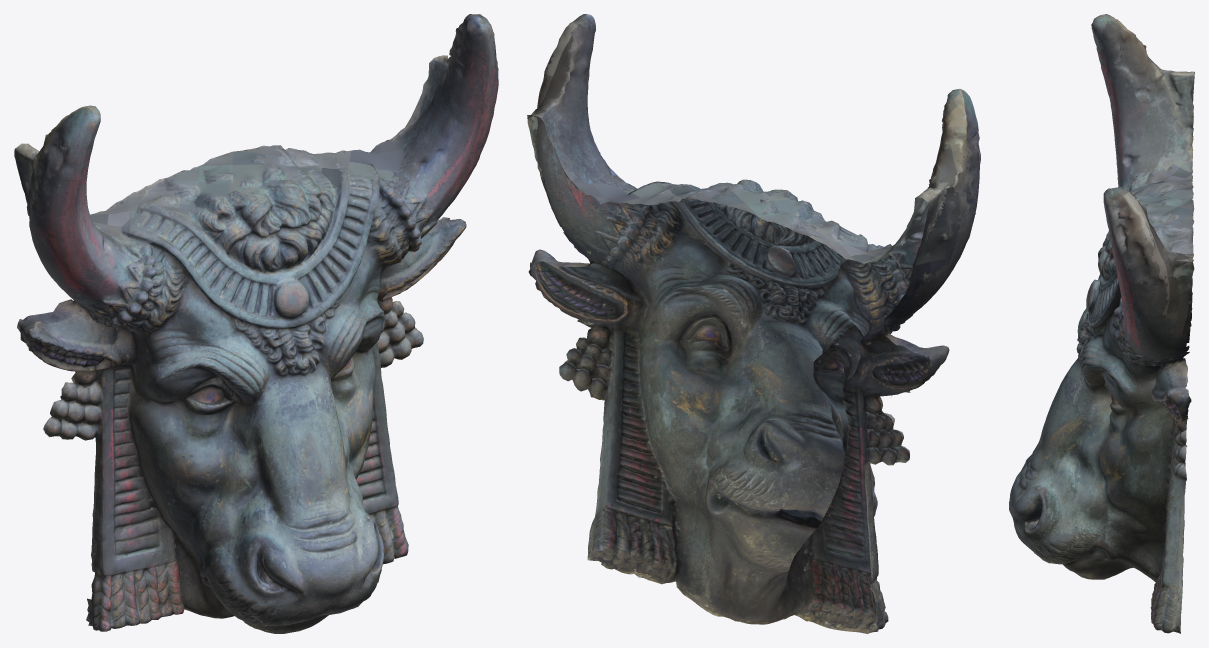
File: ox_head_sculpture_paris.glb
3 views of the same model, side by side, from view 1: azimuth 30°, elevation 25°; view 2: azimuth 150°, elevation 25°; view 3: azimuth 270°, elevation 25° (orthographic). The views are drawn at different scales.
Visible parts, largest first — view 1: Object_2; view 2: Object_2; view 3: Object_2.
Boxes of the visible parts, left/top/right/bottom form: Object_2: left=14, top=14, right=498, bottom=633; Object_2: left=527, top=14, right=980, bottom=633; Object_2: left=1009, top=14, right=1194, bottom=633.
Bounding box in the file's own units: 19.32 × 23.51 × 7.96.
Materials: 1 (1 with a texture image).
